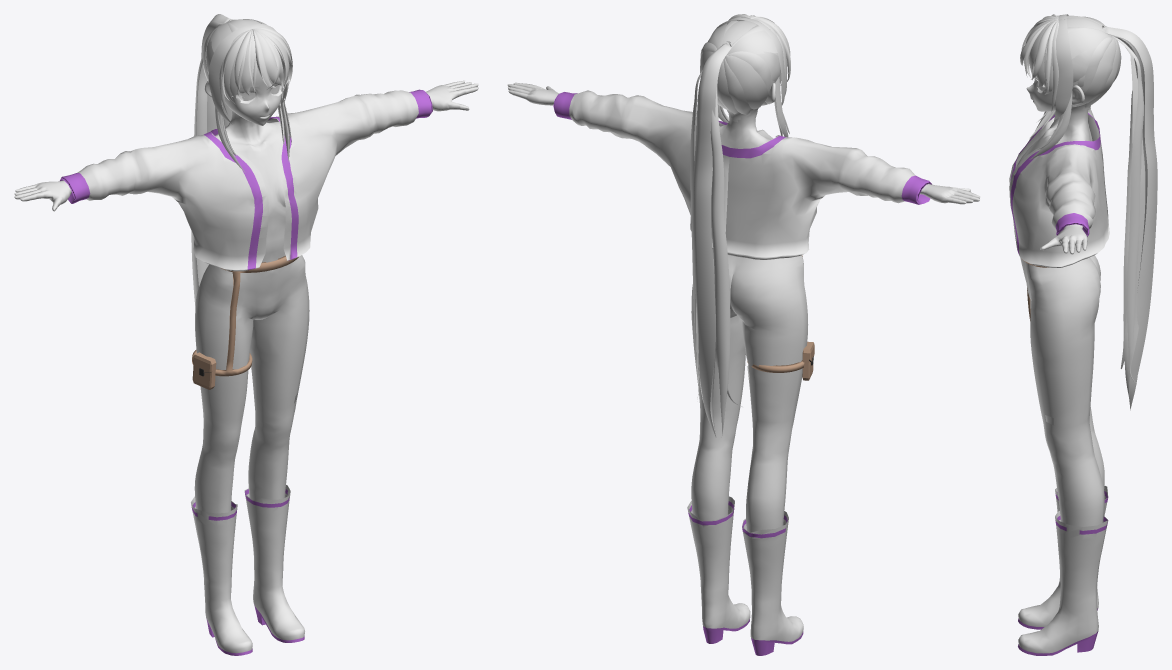
Rendered from Vroid_엠버.fbx.
3 renders of one model, left to right at view 1: azimuth 30°, elevation 25°; view 2: azimuth 150°, elevation 25°; view 3: azimuth 270°, elevation 25°, orthographic.
Visible parts, largest first — view 1: Body, Hair, Face, Bag; view 2: Body, Hair; view 3: Body, Hair, Face.
Part boxes in pixels (<box>): Body: <box>14,52,478,655</box>; Hair: <box>191,14,292,305</box>; Face: <box>204,68,284,125</box>; Bag: <box>192,352,216,389</box>; Body: <box>507,24,980,655</box>; Hair: <box>690,14,790,437</box>; Body: <box>1009,31,1111,655</box>; Hair: <box>1020,14,1157,410</box>; Face: <box>1026,76,1084,111</box>.
Size of the model in its own units: 2.76 by 3.45 by 0.7508.
